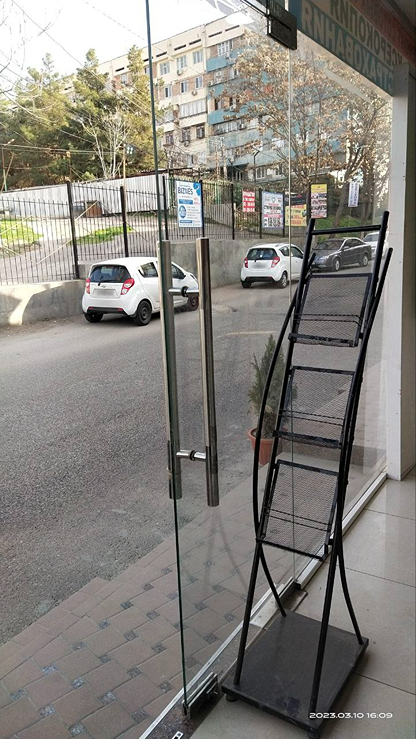car: (81, 255, 190, 333), (244, 231, 311, 295), (311, 229, 376, 290)
tree: (118, 28, 183, 176), (55, 49, 118, 177)
